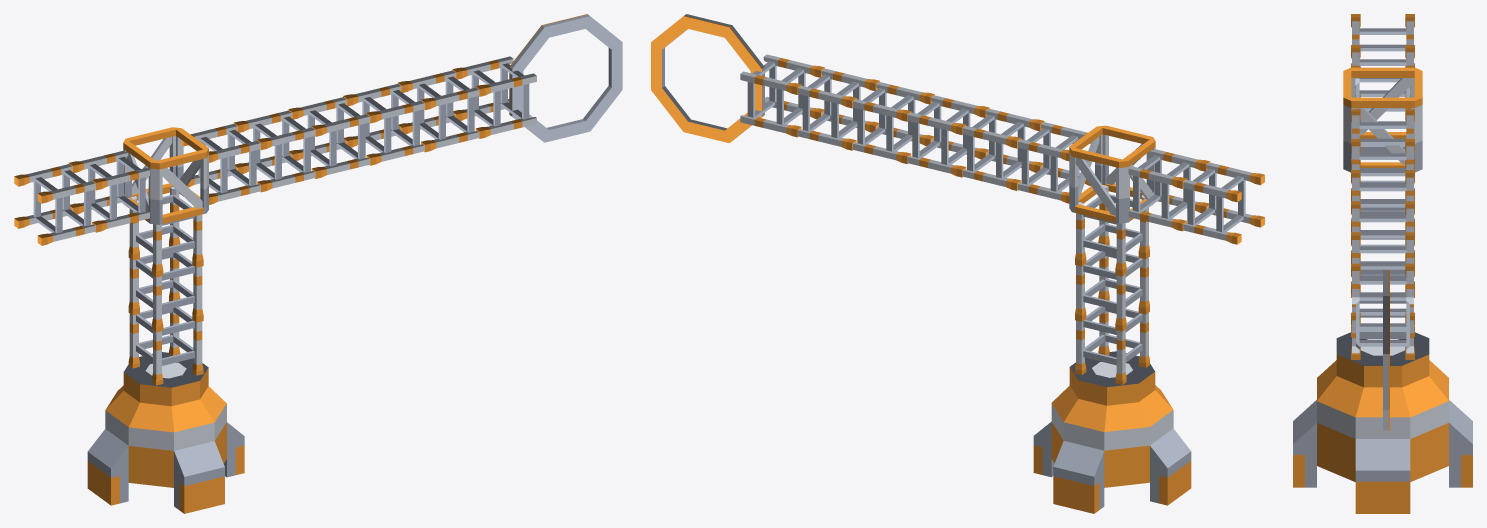
File: crane.fbx
3 renders of one model, left to right at view 1: azimuth 30°, elevation 25°; view 2: azimuth 150°, elevation 25°; view 3: azimuth 270°, elevation 25°, orthographic. The views are drawn at different scales.
Parts seen in each view (by area): view 1: machine_barrelLarge; view 2: machine_barrelLarge; view 3: machine_barrelLarge.
Part boxes in pixels (x1,y1,x2,y2): machine_barrelLarge: (14,14,622,513); machine_barrelLarge: (651,14,1264,513); machine_barrelLarge: (1293,14,1472,513).
Size of the model in its own units: 132 by 76.83 by 29.7.
